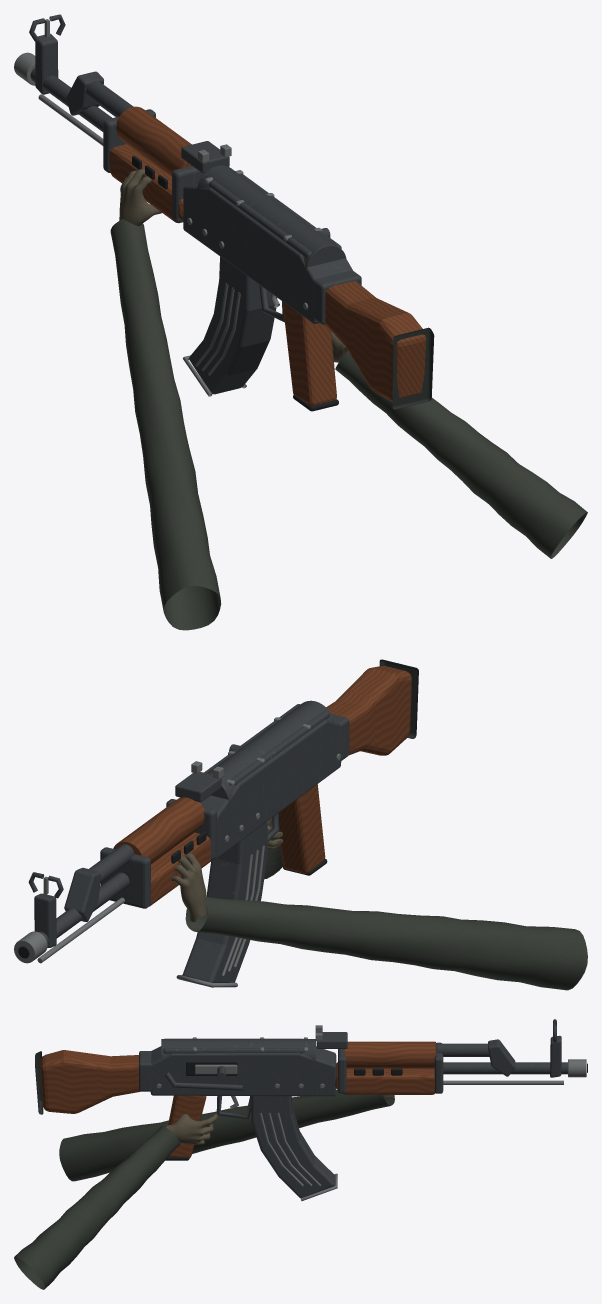
Rendered from rifle.glb.
3 renders of one model, top to bottom at view 1: azimuth 30°, elevation 25°; view 2: azimuth 150°, elevation 25°; view 3: azimuth 270°, elevation 25°, orthographic. The views are drawn at different scales.
Parts seen in each view (by area): view 1: GunSurface, Sleeve L, Sleeve R, MagazineSurface, Anatomical glove L; view 2: GunSurface, Sleeve L, MagazineSurface, Anatomical glove L, Sleeve R; view 3: GunSurface, Sleeve R, Sleeve L, MagazineSurface, Anatomical glove R, BoltSurface.
Boxes of the visible parts, x1=… form: GunSurface: x1=14, y1=14, x2=434, y2=411; Sleeve L: x1=110, y1=219, x2=221, y2=630; Sleeve R: x1=335, y1=351, x2=587, y2=558; MagazineSurface: x1=183, y1=256, x2=277, y2=396; Anatomical glove L: x1=119, y1=169, x2=161, y2=226; GunSurface: x1=14, y1=659, x2=418, y2=963; Sleeve L: x1=185, y1=897, x2=587, y2=990; MagazineSurface: x1=176, y1=821, x2=267, y2=987; Anatomical glove L: x1=171, y1=853, x2=207, y2=921; Sleeve R: x1=264, y1=838, x2=282, y2=879; GunSurface: x1=35, y1=1019, x2=587, y2=1160; Sleeve R: x1=14, y1=1125, x2=180, y2=1289; Sleeve L: x1=59, y1=1090, x2=394, y2=1181; MagazineSurface: x1=251, y1=1096, x2=337, y2=1200; Anatomical glove R: x1=166, y1=1113, x2=217, y2=1144; BoltSurface: x1=195, y1=1064, x2=237, y2=1080.
Size of the model in its own units: 0.949 by 0.7332 by 1.71.
Materials: 7 (5 with a texture image).
